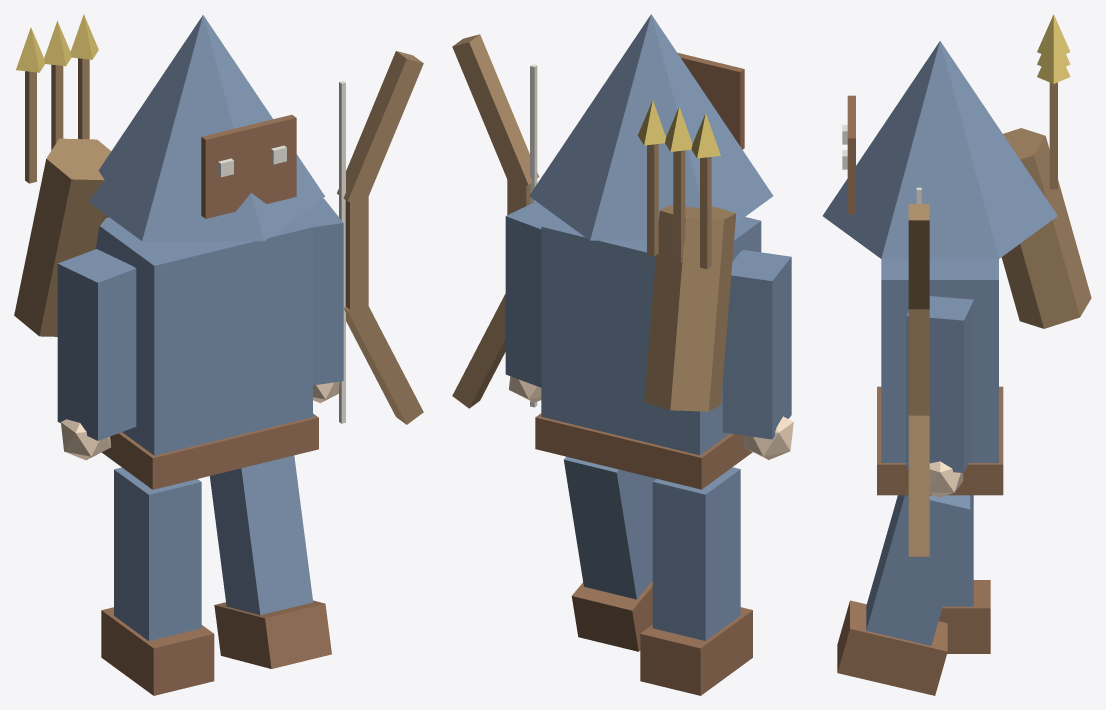
Rendered from npcpose_archer_walk_06.glb.
The picture shows the model from 3 angles, left to right: view 1: azimuth 30°, elevation 25°; view 2: azimuth 150°, elevation 25°; view 3: azimuth 270°, elevation 25°; orthographic projection. The views are drawn at different scales.
Parts seen in each view (by area): view 1: npcpose; view 2: npcpose; view 3: npcpose.
Boxes of the visible parts, x1=… form: npcpose: x1=14, y1=14, x2=423, y2=695; npcpose: x1=452, y1=14, x2=793, y2=695; npcpose: x1=822, y1=14, x2=1091, y2=695.
Size of the model in its own units: 0.9089 by 1.63 by 0.64.
